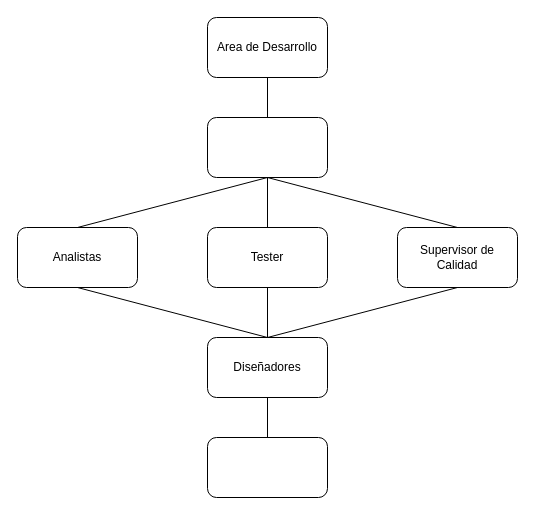
The diagram is 535 pixels wide and 515 high, and some of its shapes have lost their labels. The centre of each missing label's shape, as x and y in pixels:
"Desarrolladores" belongs at [267,467].
"Jefe de proyecto" belongs at [267,147].
